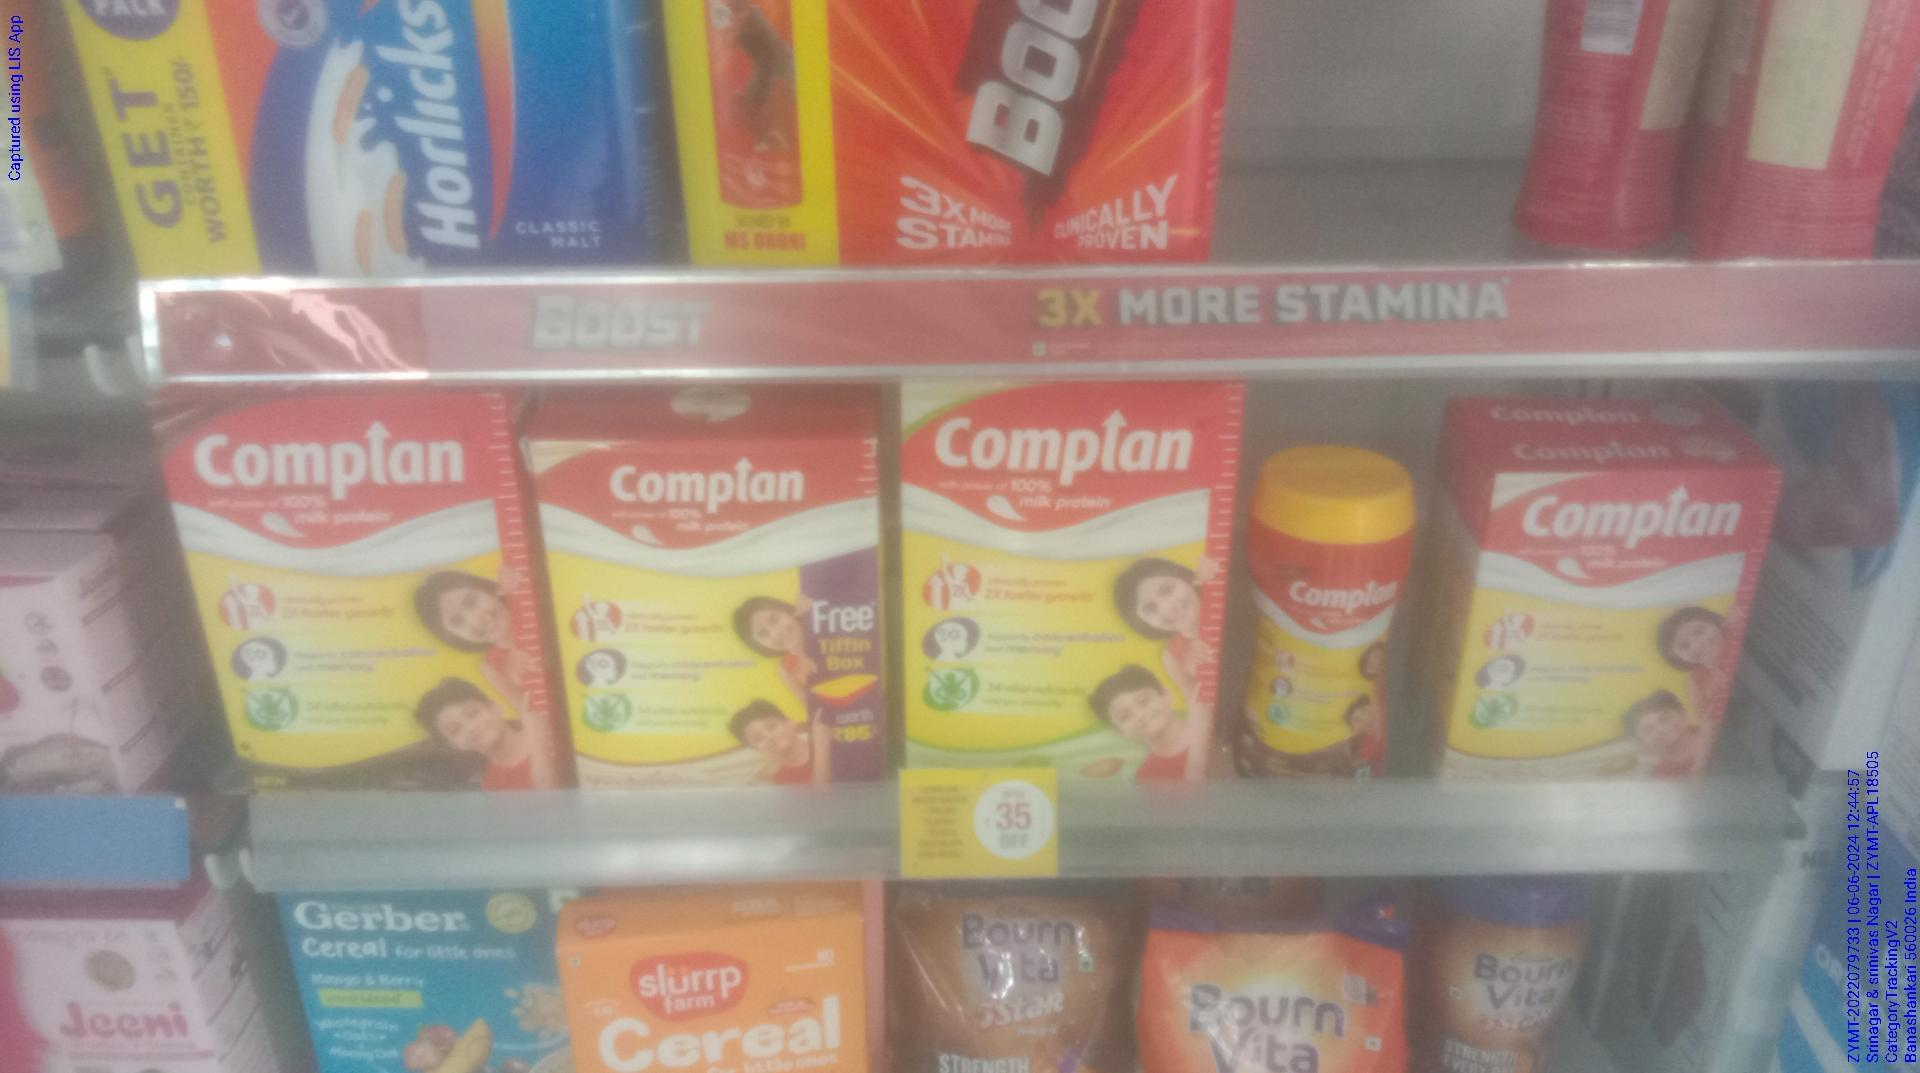COMPLAN_KESAR_BADAM_200_GMS_PACK: (1477, 456, 1753, 790)
COMPLAN_PISTA_BADAM_500_GMS_PACK: (902, 374, 1211, 787), (1255, 472, 1420, 795)
HORLICK_MALT_1_KG_CONTAINER: (71, 0, 649, 286)
